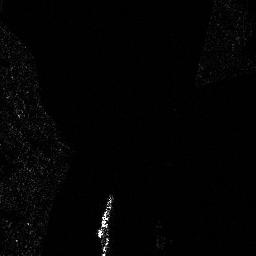ship: (95, 195, 115, 238)
